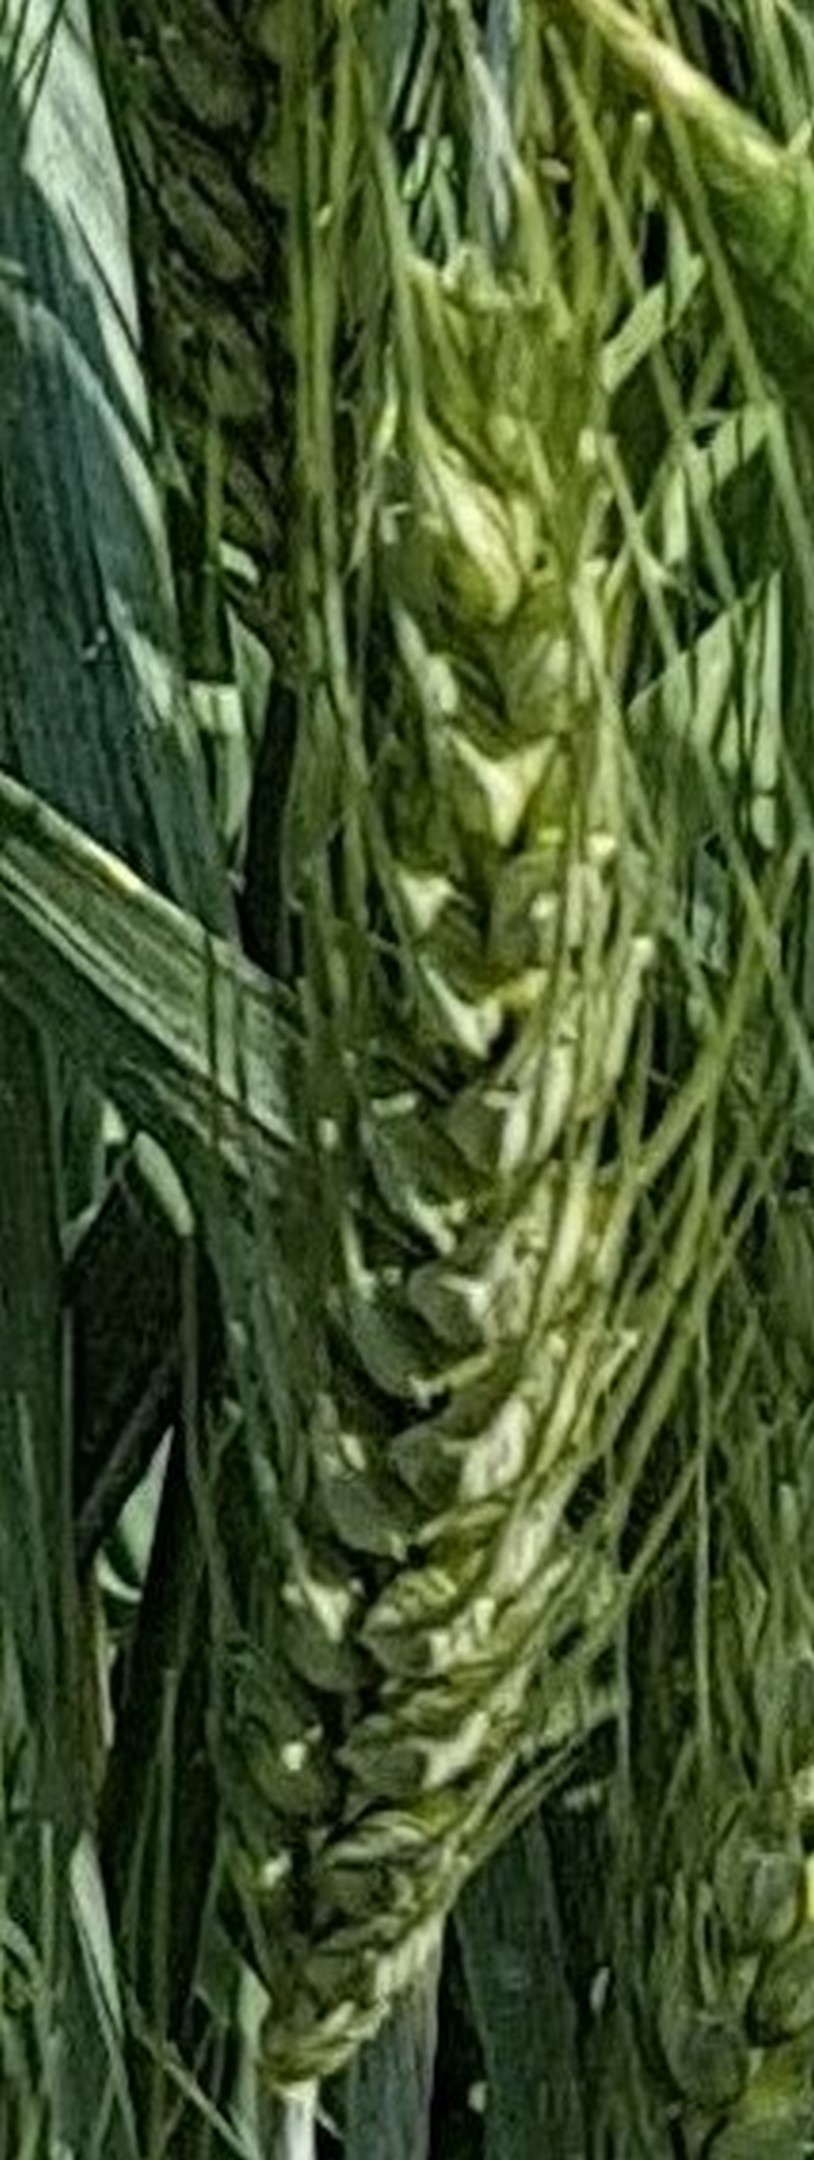Healthy Wheat: (231, 331, 671, 2059)
